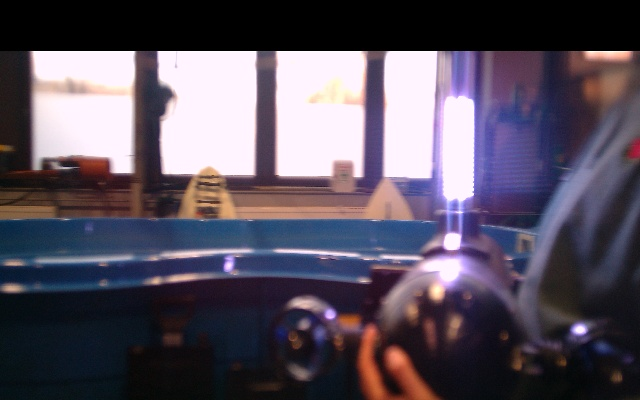white: (441, 93, 475, 201)
